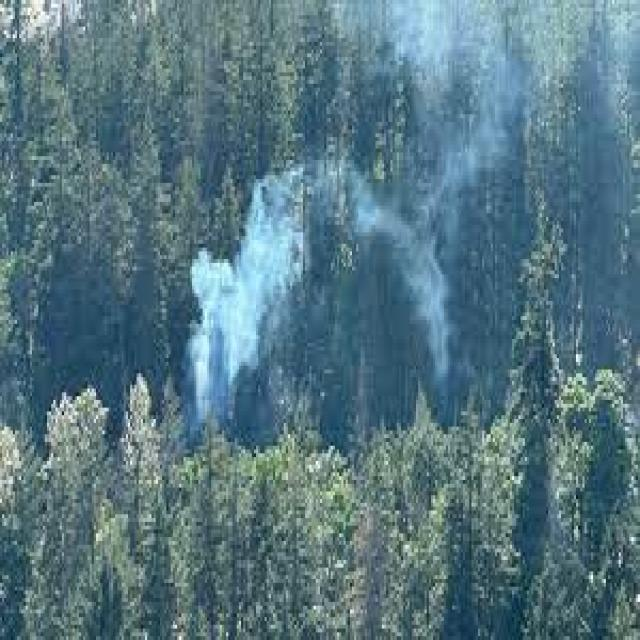Smoke: (182, 127, 484, 435), (358, 155, 469, 395), (182, 194, 280, 434)
